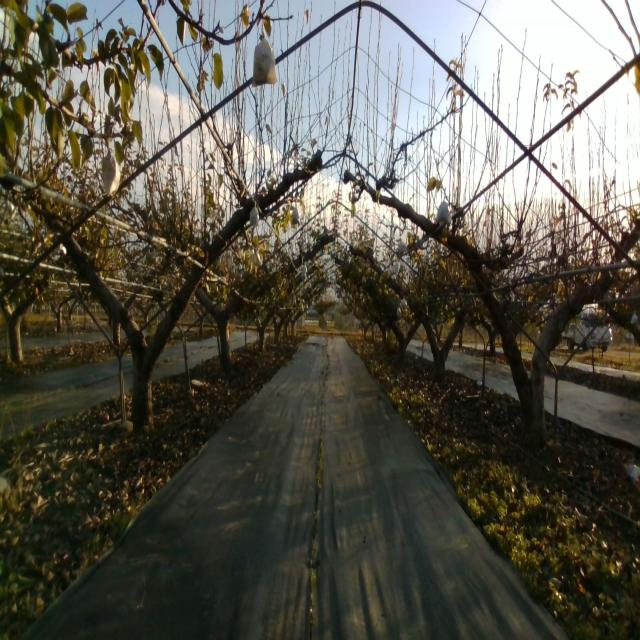pearbags: (252, 27, 278, 86), (100, 155, 120, 199), (435, 200, 453, 225), (249, 200, 260, 228)
